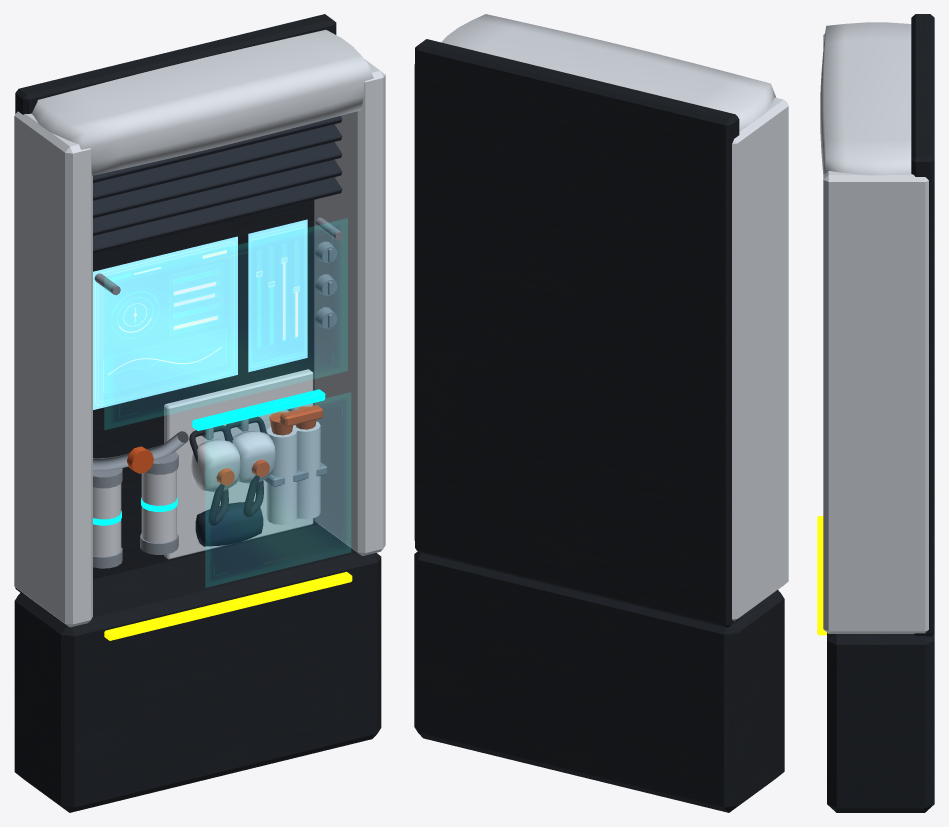
File: climate_r1_04.glb
3 views of the same model, side by side, from view 1: azimuth 30°, elevation 25°; view 2: azimuth 150°, elevation 25°; view 3: azimuth 270°, elevation 25° (orthographic). The views are drawn at different scales.
Visible parts, largest first — view 1: Climate04_AerospaceWhiteCapsuleShell, Climate04_GunmetalPlinthAndSpine, Climate04_FloatingHUDAndQuickDropGlass, Climate04_OLEDTelemetryScreen, Climate04_CarbonSlateLouvers, Climate04_OLEDCircadianSliders, Climate04_MachinedStandoffsAndVerniers, Climate04_AmberPlinthLED, Climate04_CyanStatusLED, Climate04_SignalOrangeLanyardsAndValves, Climate04_NavyHoodPouch, Climate04_CharcoalMaskHoses; view 2: Climate04_GunmetalPlinthAndSpine, Climate04_AerospaceWhiteCapsuleShell; view 3: Climate04_AerospaceWhiteCapsuleShell, Climate04_GunmetalPlinthAndSpine, Climate04_AmberPlinthLED.
Part boxes in pixels (x1,y1,x2,y2): Climate04_AerospaceWhiteCapsuleShell: (14, 29, 385, 627); Climate04_GunmetalPlinthAndSpine: (14, 14, 381, 812); Climate04_FloatingHUDAndQuickDropGlass: (105, 218, 350, 586); Climate04_OLEDTelemetryScreen: (93, 236, 237, 409); Climate04_CarbonSlateLouvers: (93, 116, 342, 253); Climate04_OLEDCircadianSliders: (248, 219, 307, 372); Climate04_MachinedStandoffsAndVerniers: (93, 217, 343, 568); Climate04_AmberPlinthLED: (104, 571, 352, 640); Climate04_CyanStatusLED: (93, 389, 325, 525); Climate04_SignalOrangeLanyardsAndValves: (127, 405, 322, 485); Climate04_NavyHoodPouch: (195, 501, 263, 546); Climate04_CharcoalMaskHoses: (189, 416, 266, 525); Climate04_GunmetalPlinthAndSpine: (414, 39, 784, 812); Climate04_AerospaceWhiteCapsuleShell: (414, 14, 788, 621); Climate04_AerospaceWhiteCapsuleShell: (820, 22, 928, 633); Climate04_GunmetalPlinthAndSpine: (827, 14, 934, 812); Climate04_AmberPlinthLED: (817, 516, 826, 635).
Size of the model in its own units: 0.92 by 1.89 by 0.305.
13 materials, 13 textured.
